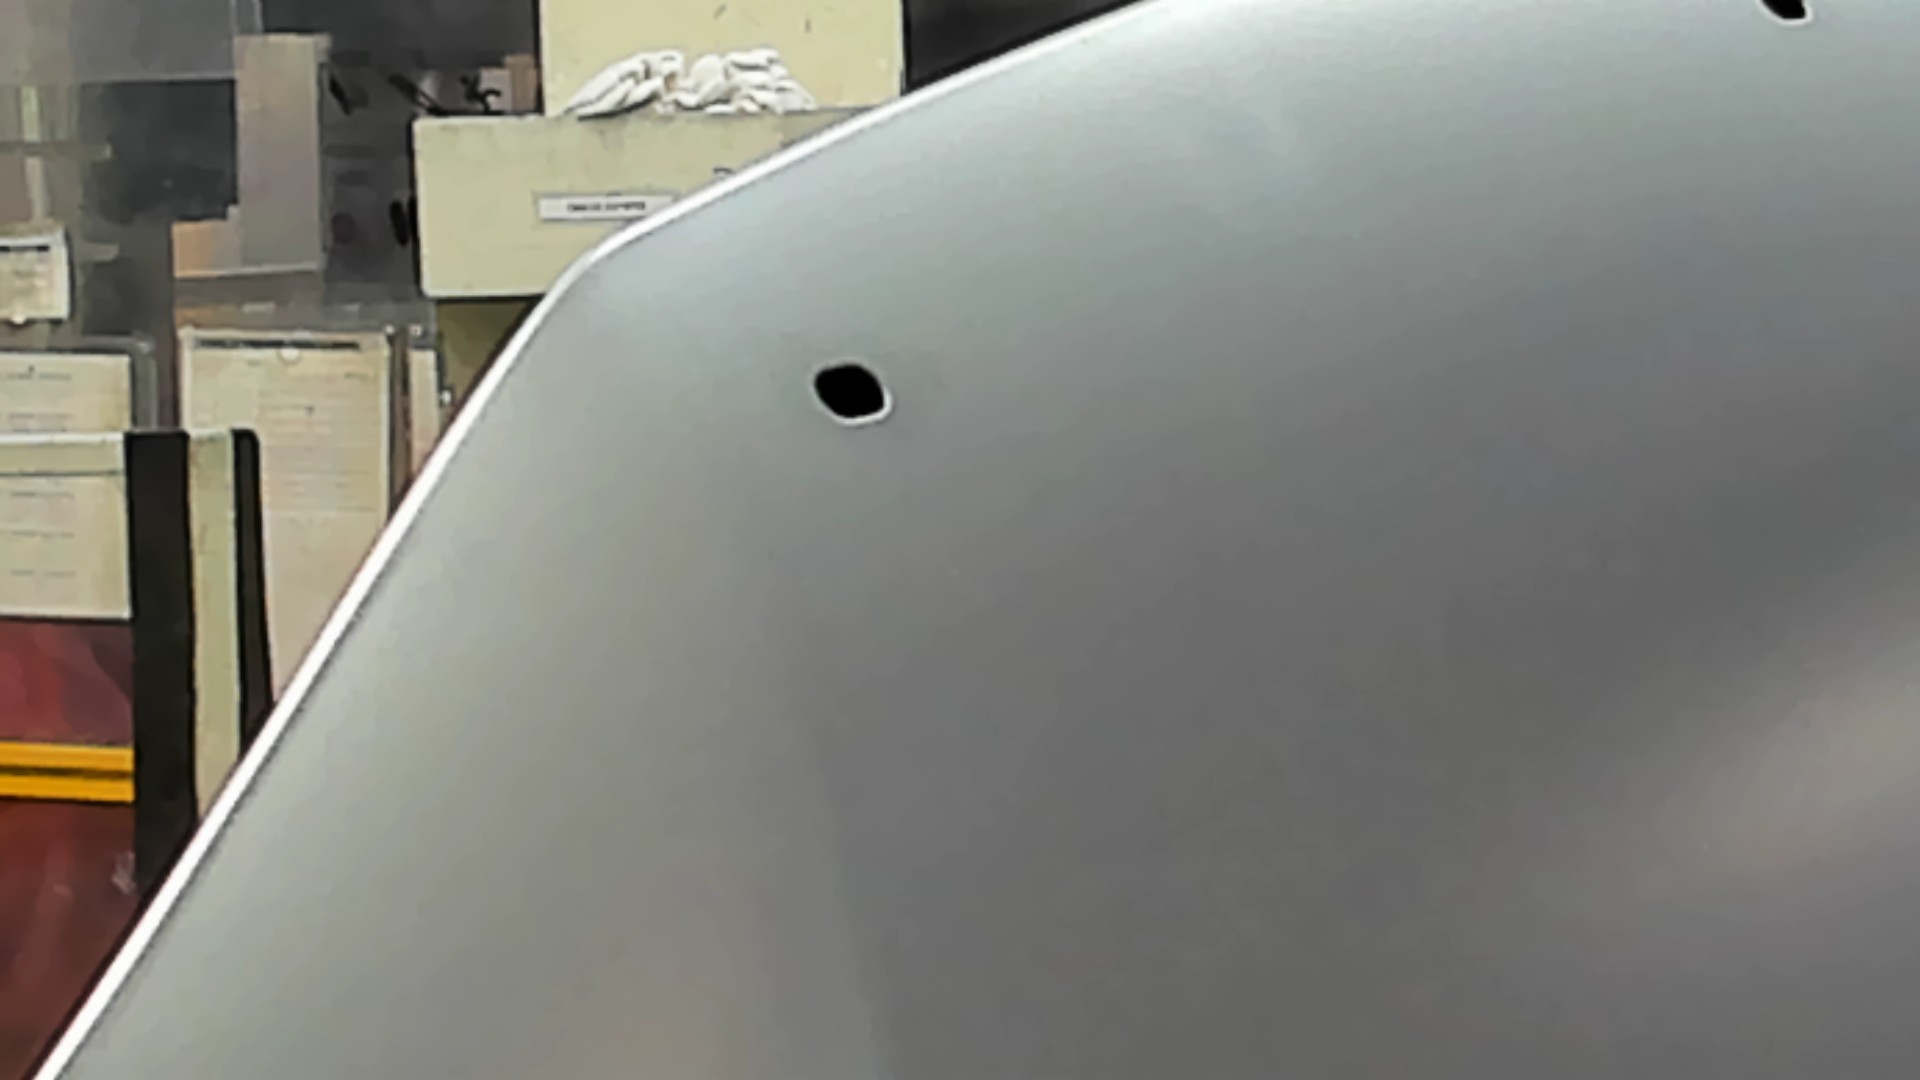amorfo: (806, 356, 898, 429)
capo: (975, 142, 1905, 1080)
